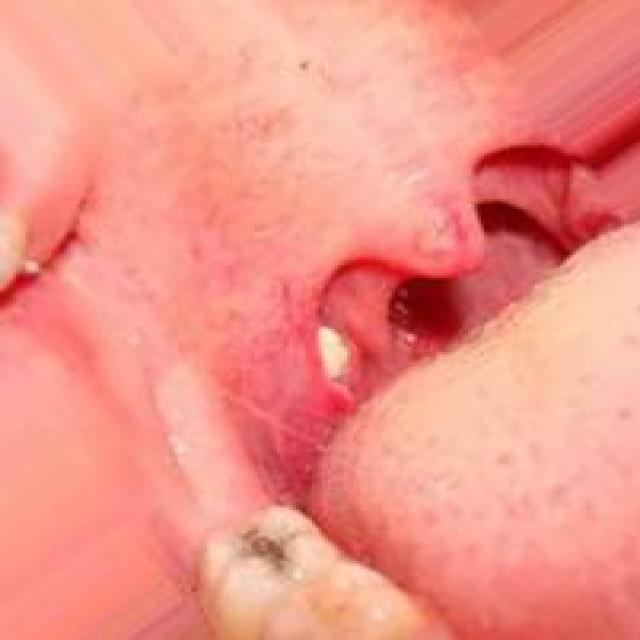caries: (211, 496, 335, 592)
